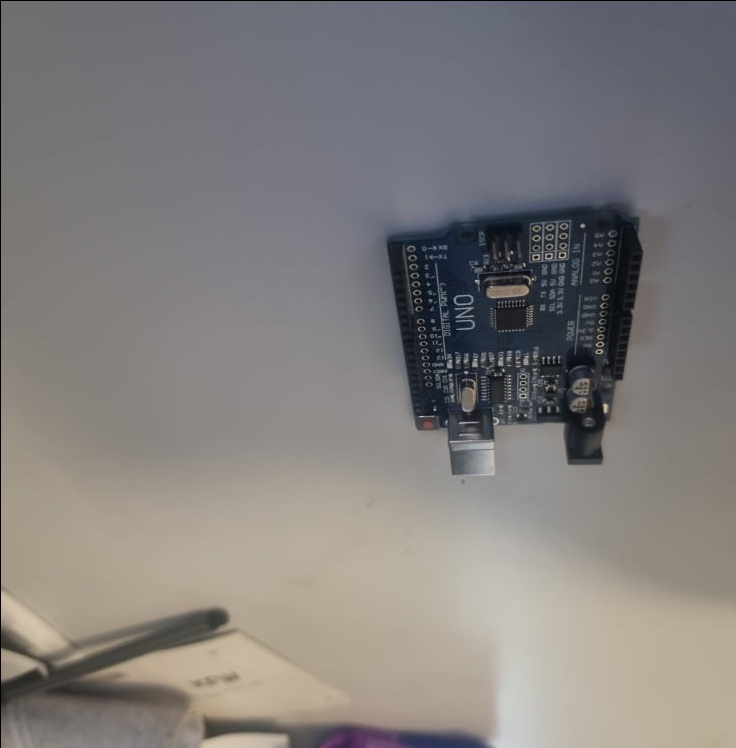UNO R3: (382, 208, 642, 479)
